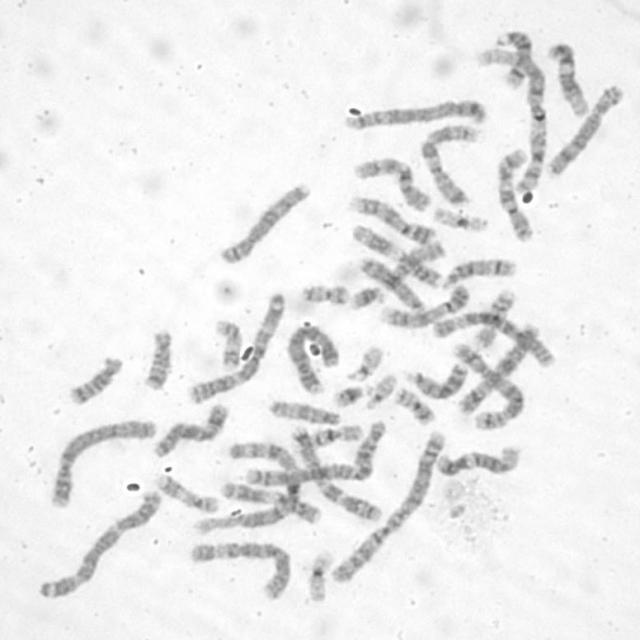A1: (475, 43, 549, 195), (193, 440, 302, 534)
A2: (327, 426, 447, 586), (238, 417, 387, 489)
A3: (34, 486, 163, 600), (183, 288, 287, 406)
B4: (46, 414, 158, 511), (285, 322, 342, 396)
B5: (448, 342, 530, 433), (340, 95, 490, 133)
C10: (350, 153, 433, 213), (493, 144, 535, 243)
C11: (348, 221, 443, 289), (218, 478, 322, 526)
C12: (544, 39, 590, 119), (432, 442, 523, 480)
C6: (429, 308, 557, 368), (186, 536, 292, 602)
C7: (286, 421, 386, 524), (418, 120, 482, 208)
C8: (216, 179, 313, 266), (543, 80, 626, 178)
C9: (345, 192, 436, 245), (377, 281, 472, 329)
D13: (357, 254, 428, 314), (399, 360, 469, 400)
D14: (440, 254, 518, 288), (496, 26, 534, 90)
D15: (379, 237, 449, 296), (266, 396, 343, 426)
E16: (468, 285, 518, 349), (290, 420, 366, 451)
E17: (152, 470, 222, 515), (212, 316, 245, 371)
E18: (64, 352, 124, 407), (140, 326, 175, 392)
F19: (430, 202, 490, 234), (304, 547, 336, 605)
F20: (391, 383, 438, 428), (297, 280, 352, 306)
G21: (329, 380, 375, 409), (348, 282, 385, 311)
G22: (343, 342, 385, 382), (362, 370, 398, 411)
X: (453, 319, 542, 418), (149, 400, 232, 460)
